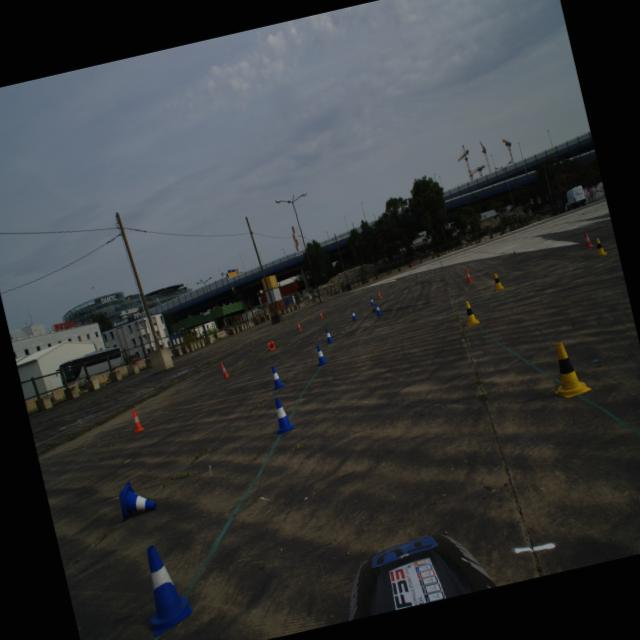blue_cone: (132, 540, 195, 636), (114, 476, 158, 522), (268, 394, 296, 434), (267, 364, 287, 390), (313, 344, 328, 366), (322, 327, 334, 344), (373, 302, 383, 316), (350, 308, 358, 322), (368, 296, 374, 306)
orange_cone: (128, 408, 146, 433), (580, 230, 594, 249), (220, 361, 230, 378), (462, 267, 472, 283), (268, 340, 276, 350), (295, 320, 302, 331), (376, 289, 382, 299), (318, 310, 323, 318)
yellow_cone: (544, 337, 592, 400), (460, 298, 480, 326), (592, 236, 608, 256), (491, 272, 504, 290)
